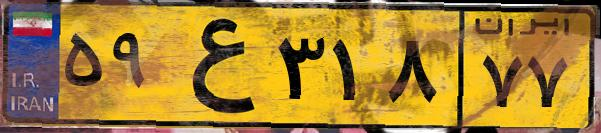1: (330, 28, 385, 110)
3: (270, 28, 330, 110)
5: (57, 26, 110, 100)
7: (475, 38, 525, 113), (525, 38, 570, 115)
8: (385, 28, 445, 110)
9: (110, 28, 158, 98)
ع: (158, 12, 270, 120)
